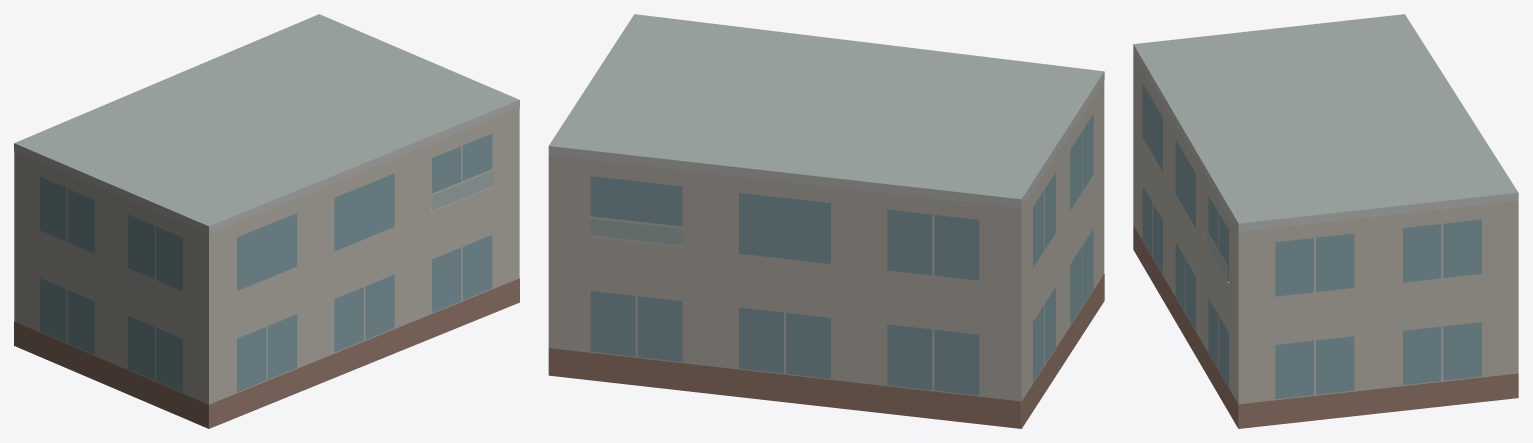
The model's file is survey-upis-32907971.glb.
3 views of the same model, side by side, from view 1: azimuth 30°, elevation 25°; view 2: azimuth 150°, elevation 25°; view 3: azimuth 270°, elevation 25° (orthographic). The views are drawn at different scales.
Visible parts, largest first — view 1: survey-upis-32907971.tmp; view 2: survey-upis-32907971.tmp; view 3: survey-upis-32907971.tmp.
Boxes of the visible parts, bbox=[...] form: survey-upis-32907971.tmp: bbox=[14, 14, 519, 428]; survey-upis-32907971.tmp: bbox=[548, 14, 1104, 428]; survey-upis-32907971.tmp: bbox=[1133, 14, 1518, 428].
Bounding box in the file's own units: 13.36 × 6.1 × 10.38.
